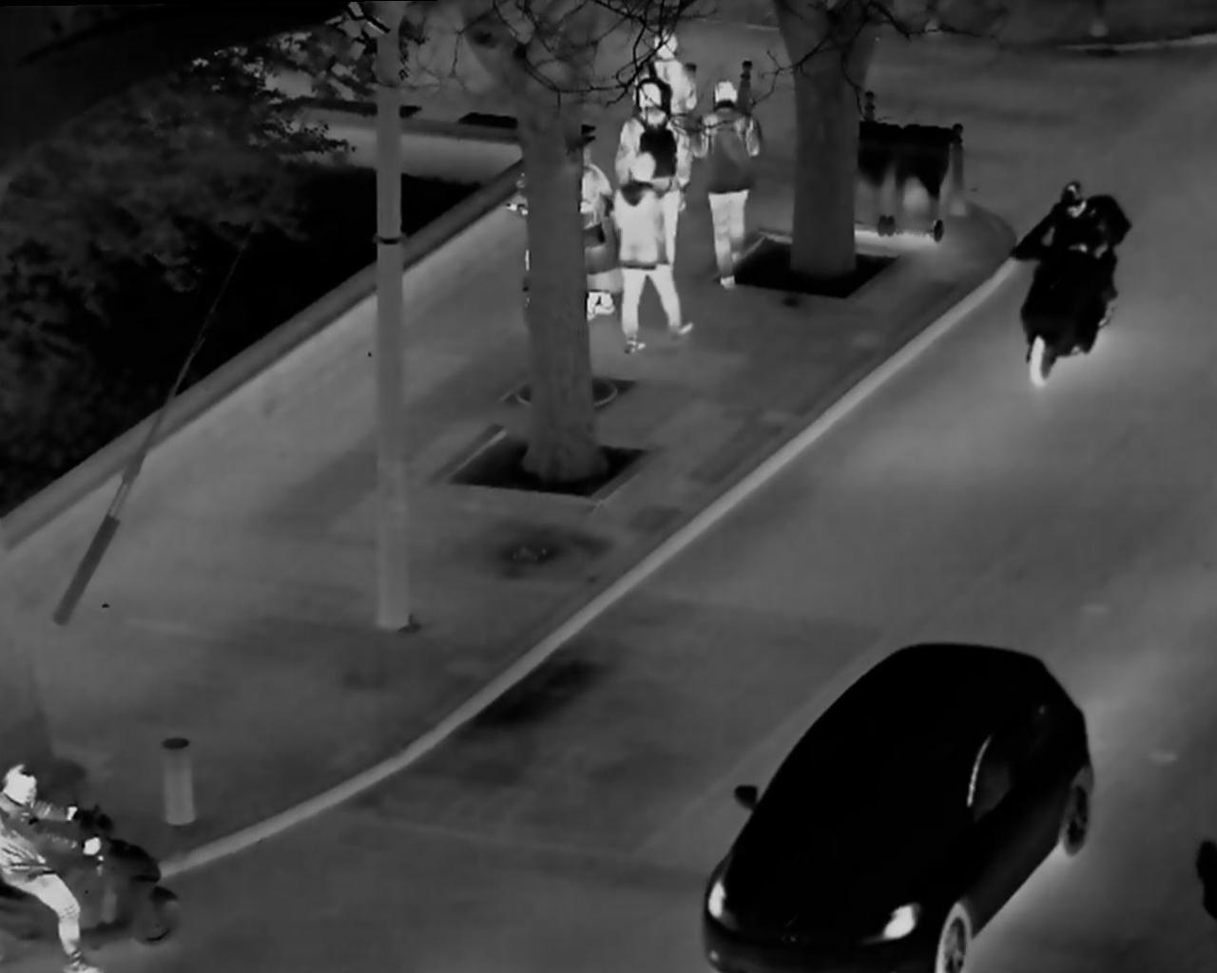person: (1016, 165, 1135, 385), (691, 66, 782, 303), (608, 143, 691, 359), (608, 82, 699, 269), (633, 29, 701, 151)
